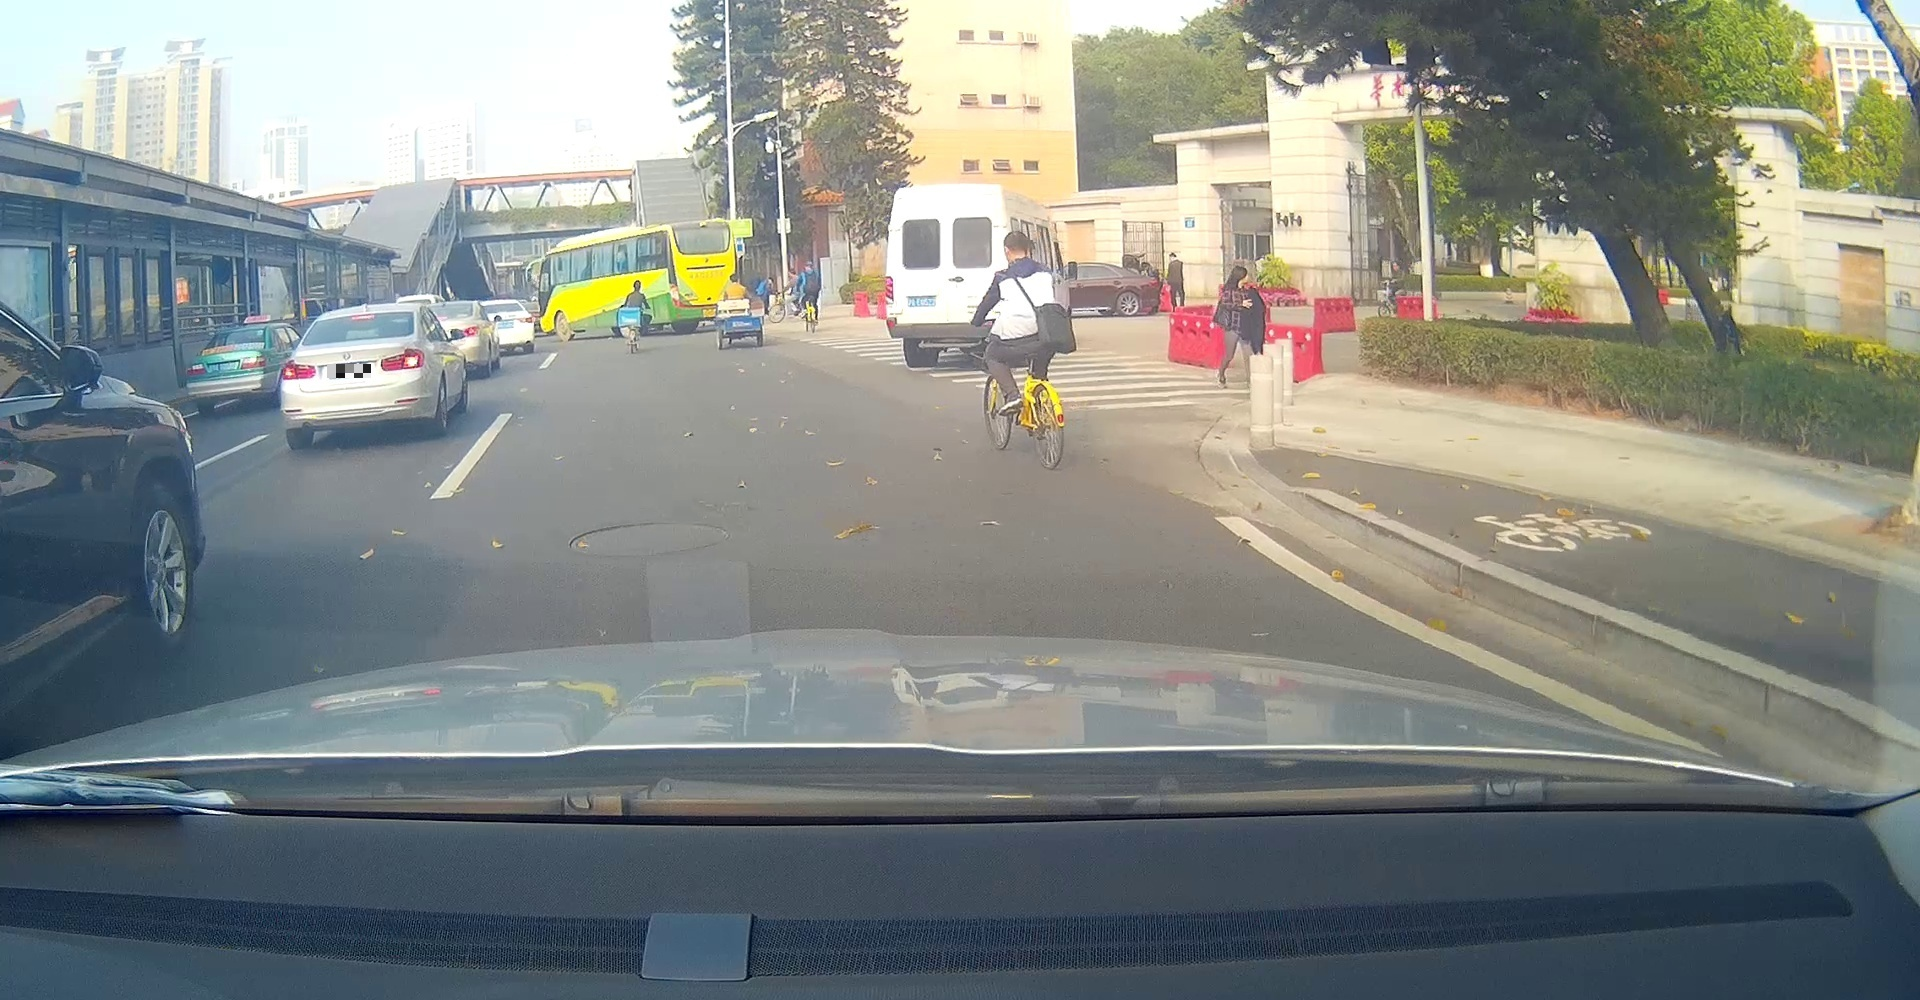L_light: (281, 359, 317, 379), (185, 363, 207, 376)
R_light: (381, 348, 425, 372), (237, 354, 265, 369)
T_light: (352, 315, 375, 319), (232, 329, 250, 332)
day-brake: (281, 302, 425, 451)
day-no: (184, 324, 269, 415)
plate_1: (328, 364, 371, 378)
